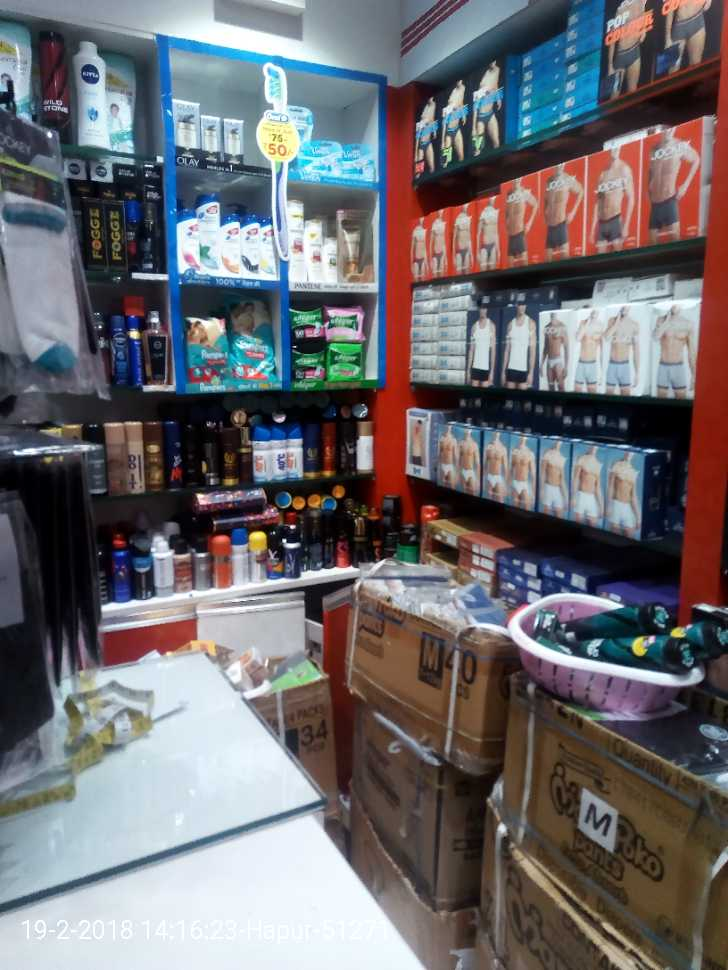venus: (304, 142, 343, 176), (343, 144, 376, 176), (295, 107, 306, 139)
